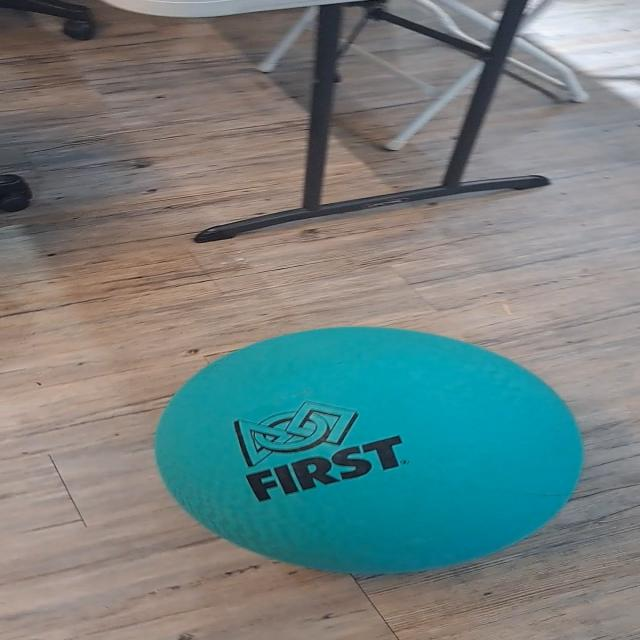ALGAE: (151, 324, 586, 576)
